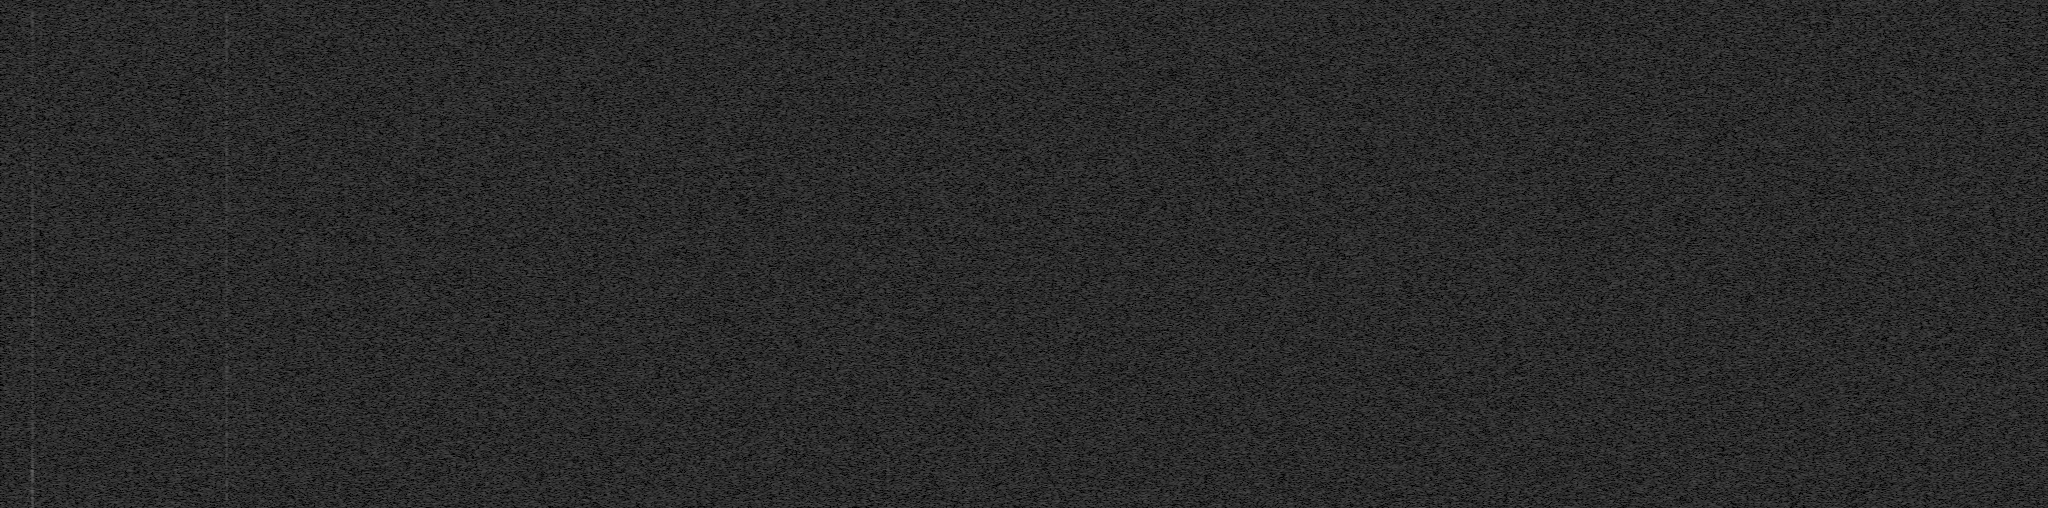wv_usb: (30, 225, 35, 508), (225, 236, 229, 384), (30, 57, 35, 135), (225, 385, 229, 470), (225, 104, 229, 185), (413, 393, 417, 471), (225, 26, 229, 104), (413, 97, 417, 171), (413, 217, 415, 293), (30, 18, 35, 56), (413, 13, 417, 61), (30, 189, 35, 223), (225, 185, 229, 226), (886, 454, 891, 478), (30, 158, 35, 180), (30, 136, 35, 157), (225, 10, 229, 25), (225, 491, 229, 504), (225, 478, 229, 490), (886, 127, 891, 135), (30, 9, 35, 17), (413, 494, 415, 508), (413, 473, 415, 487), (30, 182, 35, 188), (225, 227, 229, 235), (886, 500, 889, 507), (886, 137, 889, 144), (413, 383, 415, 390), (413, 324, 415, 332), (413, 313, 415, 321), (886, 481, 889, 486), (887, 168, 889, 176), (887, 494, 889, 499), (413, 296, 415, 302), (887, 155, 889, 161), (887, 146, 889, 151), (225, 505, 229, 508), (887, 488, 889, 491), (887, 183, 889, 185), (887, 163, 889, 166)
